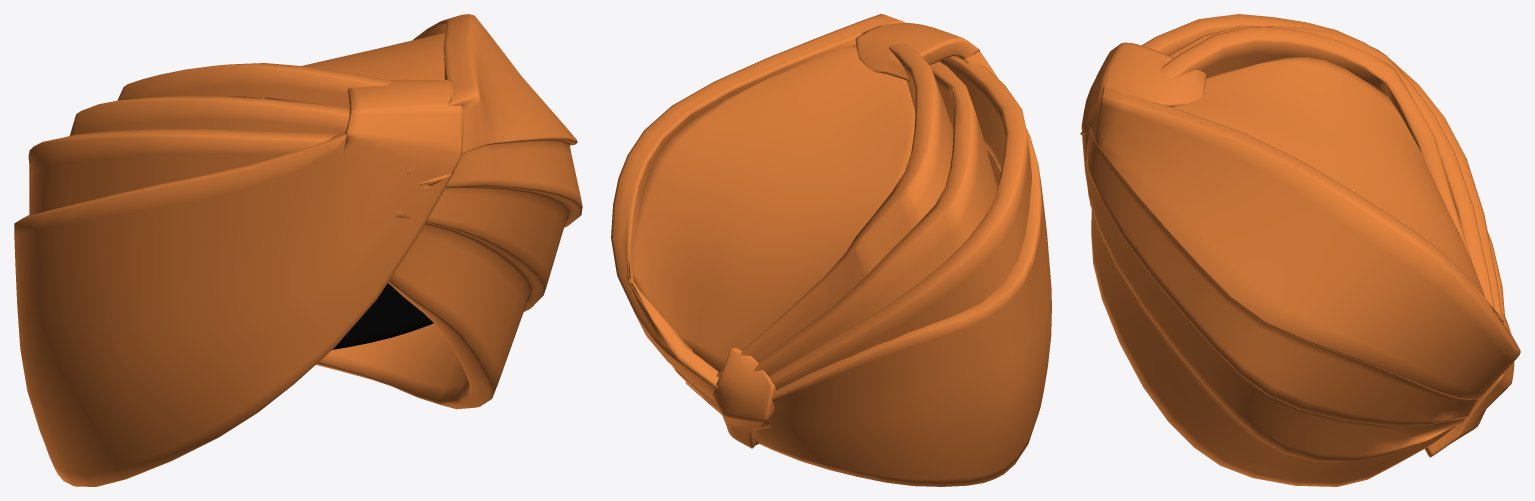
File: sikh-t2.glb
3 views of the same model, side by side, from view 1: azimuth 30°, elevation 25°; view 2: azimuth 150°, elevation 25°; view 3: azimuth 270°, elevation 25° (orthographic). The views are drawn at different scales.
Parts seen in each view (by area): view 1: Plane.002; view 2: Plane.002; view 3: Plane.002.
Boxes of the visible parts, bbox=[...] form: Plane.002: bbox=[14, 14, 582, 486]; Plane.002: bbox=[611, 14, 1051, 486]; Plane.002: bbox=[1080, 14, 1520, 486].
Size of the model in its own units: 0.2384 by 0.1897 by 0.1978.
